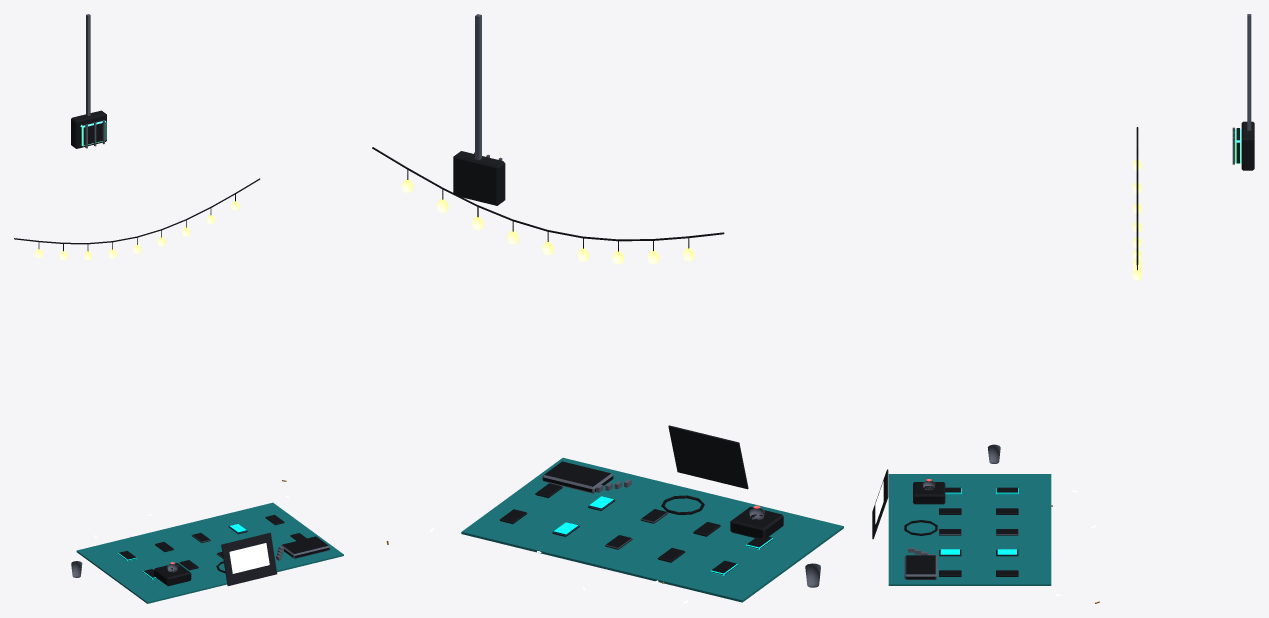
File: room-detail-zamkowy-props.glb
3 views of the same model, side by side, from view 1: azimuth 30°, elevation 25°; view 2: azimuth 150°, elevation 25°; view 3: azimuth 270°, elevation 25° (orthographic). The views are drawn at different scales.
Parts seen in each view (by area): view 1: rd-pz-stall, rd-pz-metro-lamp; view 2: rd-pz-stall, rd-pz-metro-lamp; view 3: rd-pz-stall, rd-pz-metro-lamp.
Boxes of the visible parts, x1,y1,x2,y2 form: rd-pz-stall: [14, 178, 343, 603]; rd-pz-metro-lamp: [71, 14, 106, 148]; rd-pz-stall: [372, 147, 843, 603]; rd-pz-metro-lamp: [453, 14, 505, 205]; rd-pz-stall: [872, 127, 1141, 603]; rd-pz-metro-lamp: [1232, 14, 1254, 170].
Bounding box in the file's own units: 2.11 × 3.5 × 2.35.
Materials: 1 (1 with a texture image).
